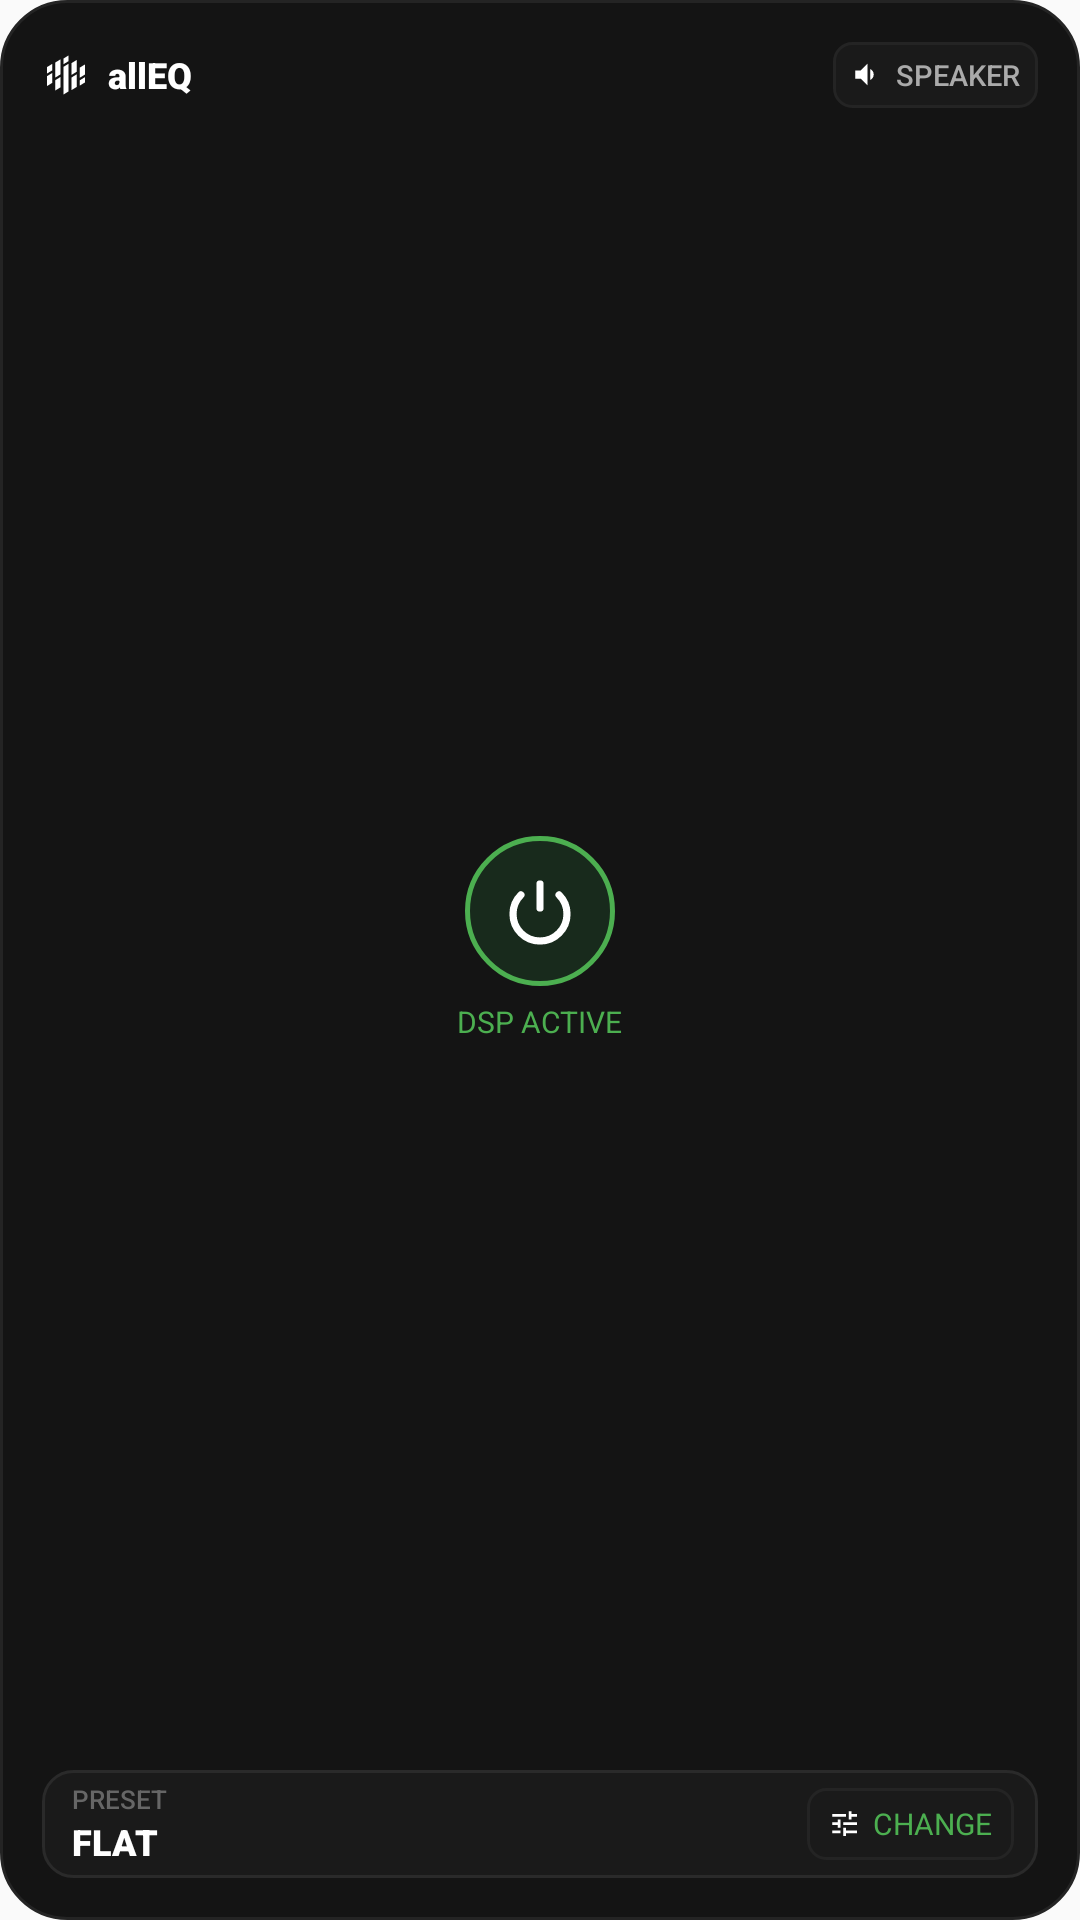

Where icons sit on this 1080*1920 app screen, as (x1, y1, x2, y2):
Power: (509, 880, 571, 945)
